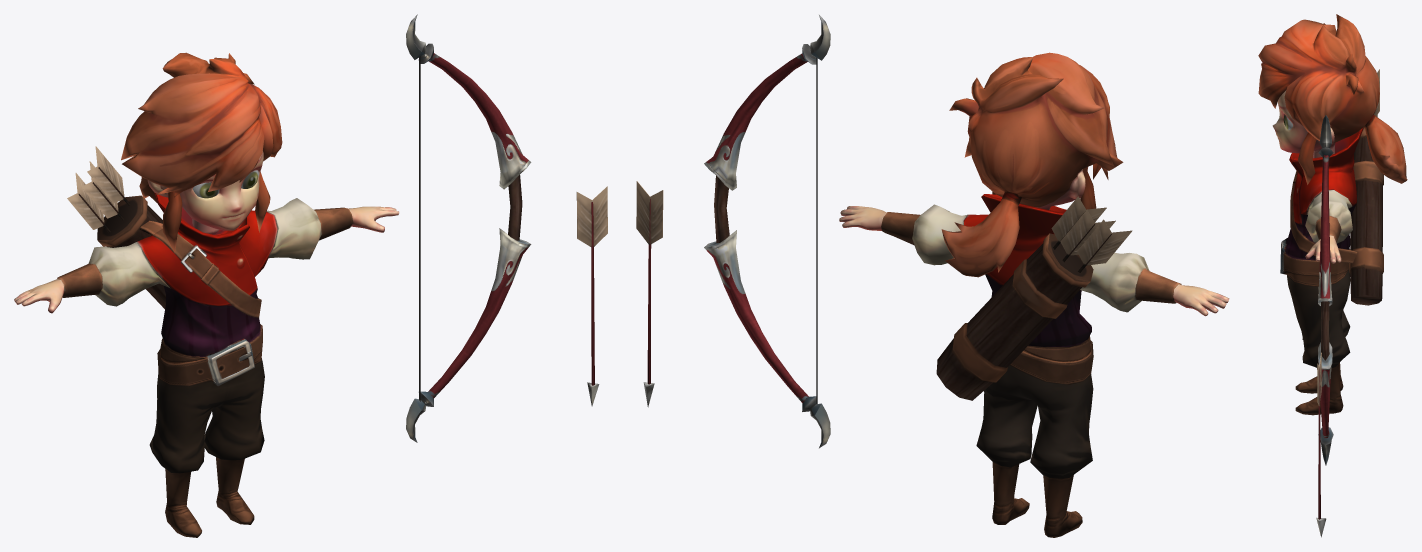
The model's file is MOD_Archer_NoRig.fbx.
The picture shows the model from 3 angles, left to right: view 1: azimuth 30°, elevation 25°; view 2: azimuth 150°, elevation 25°; view 3: azimuth 270°, elevation 25°; orthographic projection. The views are drawn at different scales.
Visible parts, largest first — view 1: Archer_Body, Archer_Bow, Archer_Arrow; view 2: Archer_Body, Archer_Bow, Archer_Arrow; view 3: Archer_Body, Archer_Bow, Archer_Arrow.
Boxes of the visible parts, x1,y1,x2,y2 form: Archer_Body: [14, 52, 399, 537]; Archer_Bow: [406, 14, 531, 442]; Archer_Arrow: [576, 186, 607, 406]; Archer_Body: [839, 52, 1229, 537]; Archer_Bow: [704, 15, 830, 448]; Archer_Arrow: [636, 181, 663, 407]; Archer_Body: [1258, 14, 1407, 415]; Archer_Bow: [1318, 115, 1333, 465]; Archer_Arrow: [1316, 352, 1326, 537].
Bounding box in the file's own units: 217 × 162 × 58.34.
